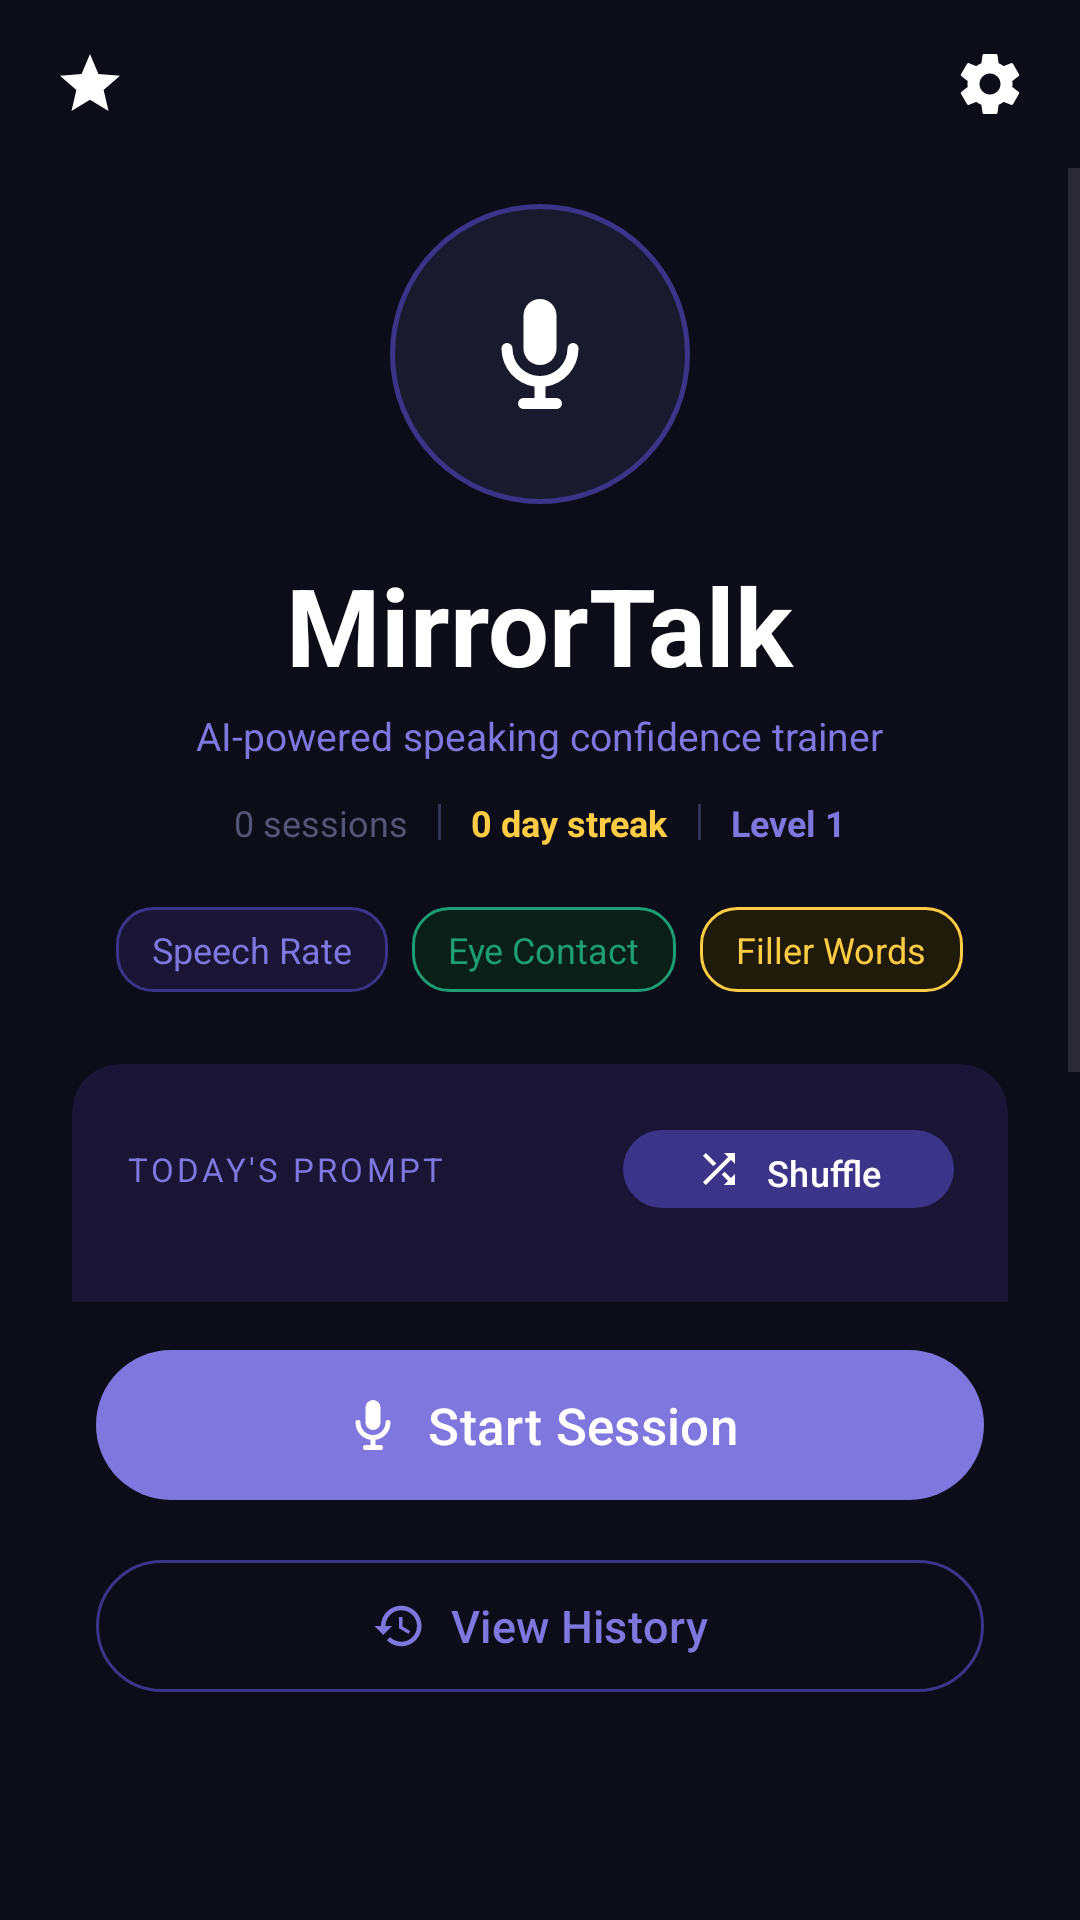

Screen size 1080px x 1920px. Icon name, then its center in pixels as (x=x, y=y):
Achievements: (x=90, y=82)
mic: (x=540, y=354)
Settings: (x=989, y=84)
